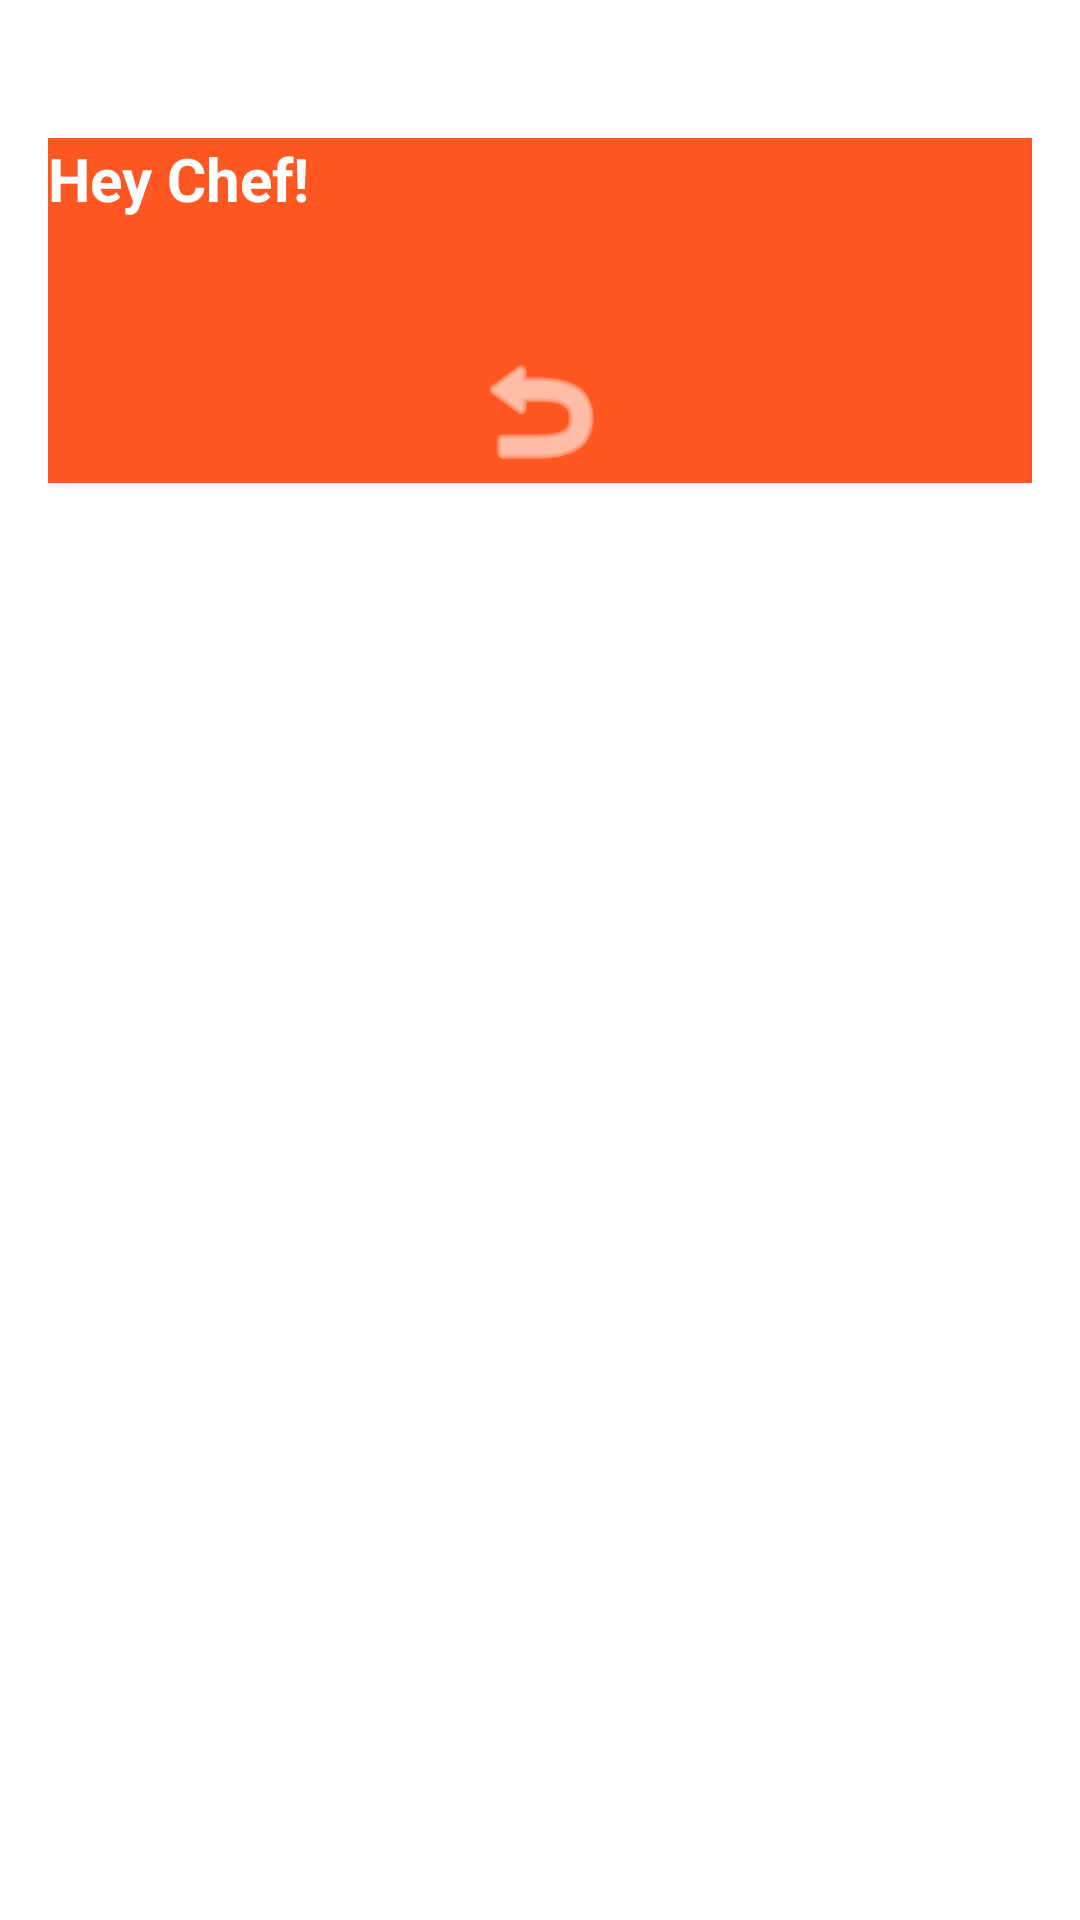

Named icons in this screenshot (1080px x 1920px) and their bounding boxes, [x1=x1, y1=y1, x2=x2, y2=y2]:
Back: [x1=490, y1=365, x2=594, y2=459]
